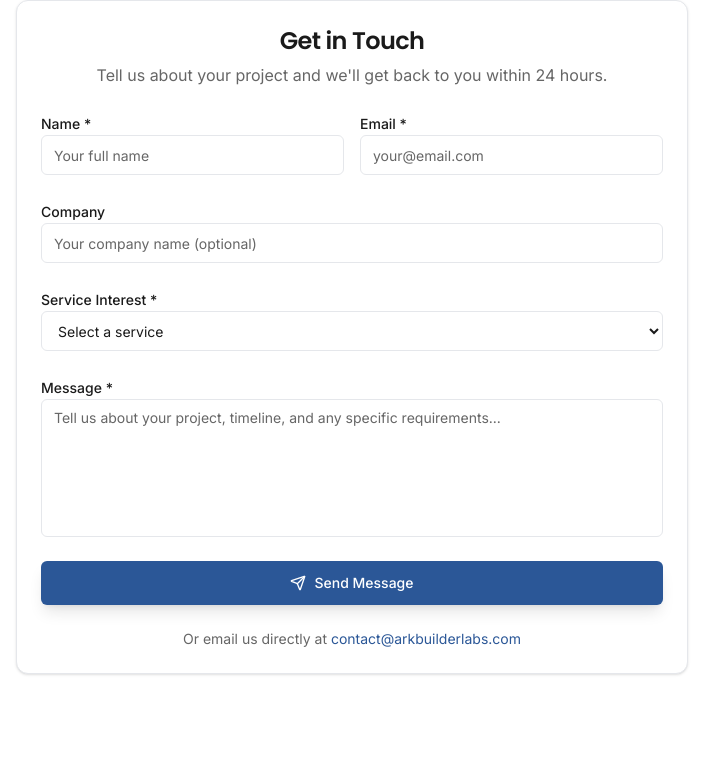
Test: ContactForm › shows validation errors for required fields
The image size is (705, 776).
Click the button "Send Message" at (352, 583), box [41, 561, 663, 605]
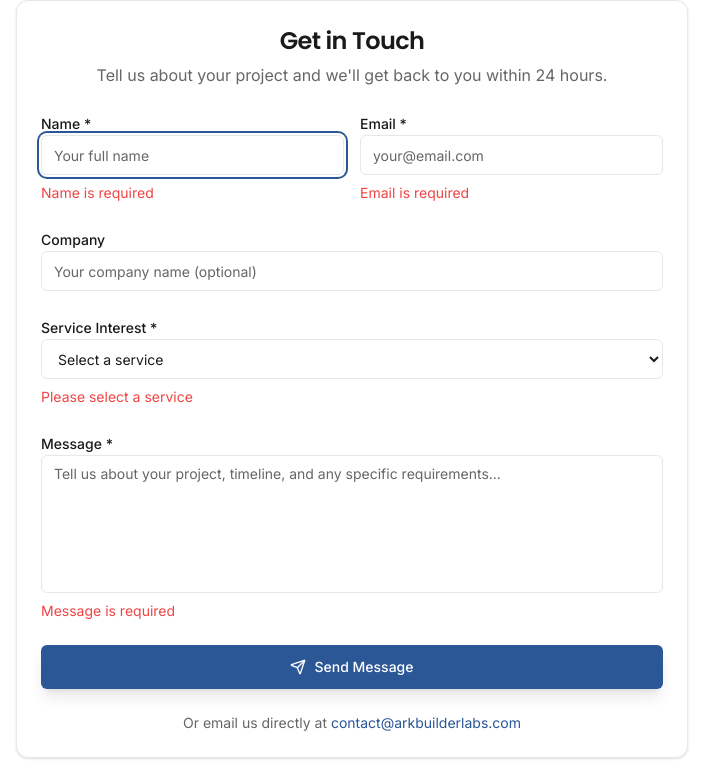
Now the text "Name is required" is shown, box [41, 184, 154, 201]
Now the text "Email is required" is shown, box [360, 184, 469, 201]
Now the text "Please select a service" is shown, box [41, 388, 193, 405]
